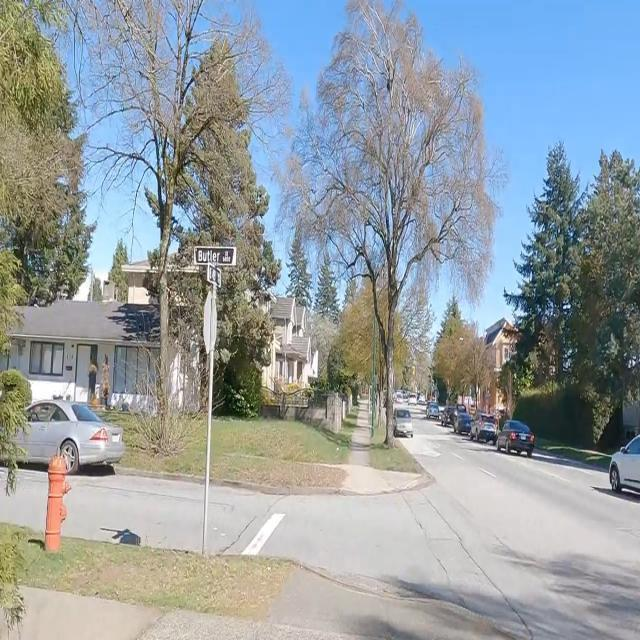Automobile: (19, 399, 124, 474), (609, 434, 639, 492), (498, 419, 534, 455), (471, 413, 496, 443), (393, 404, 411, 437), (453, 407, 471, 435), (441, 404, 455, 425), (426, 401, 438, 419)
Obstacle: (44, 453, 70, 551)
Road: (210, 420, 639, 639), (65, 471, 201, 547)
Sidewalk: (264, 567, 511, 639), (9, 587, 160, 639), (140, 611, 359, 639), (347, 398, 381, 466), (338, 465, 420, 493)
